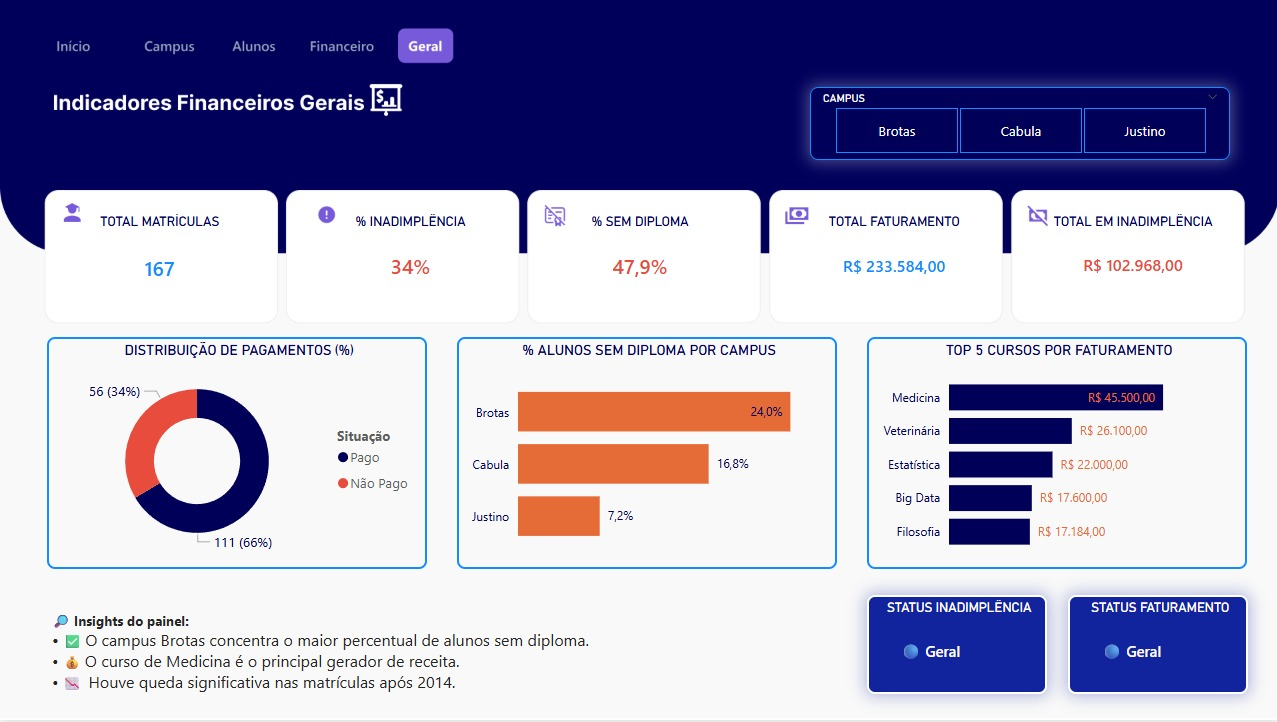

The page's visual inventory and layout, read from the dashboard file:
{"tool":"powerbi","page":{"name":"GERAL","canvas":[1280,720],"ordinal":4},"visuals":[{"type":"donutChart","title":"DISTRIBUIÇÃO DE PAGAMENTOS (%)","fields":{"Category":["Dim_Situacao.Situação"],"Y":["Medidas.TT MATRÍCULAS"]},"box":[47,336.9,380.4,232.3],"z":0},{"type":"cardVisual","title":"TOTAL FATURAMENTO","fields":{"Data":["Medidas.FAT REAL"]},"box":[810.4,213.7,167.6,88],"z":1000},{"type":"cardVisual","title":"% INADIMPLÊNCIA","fields":{"Data":["Medidas.% NÃO PAGO 2"]},"box":[340.5,213.7,140.1,88.7],"z":2000},{"type":"cardVisual","title":"%  SEM DIPLOMA","fields":{"Data":["Medidas.PCT NÃO PEGARAM DIPLOMA"]},"box":[570.1,213.7,140.1,88],"z":3000},{"type":"cardVisual","title":"TOTAL MATRÍCULAS","fields":{"Data":["Medidas.TT MATRÍCULAS"]},"box":[91.3,213.7,136.6,92.2],"z":4000},{"type":"barChart","title":"% ALUNOS SEM DIPLOMA POR CAMPUS","fields":{"Y":["Medidas.PCT NÃO PEGARAM DIPLOMA"],"Category":["Dim_Campus.Campus"]},"box":[457,337,380,232],"z":5000},{"type":"barChart","title":"TOP 5 CURSOS POR FATURAMENTO","fields":{"Category":["Dim_Cursos.Curso"],"Y":["Medidas.FATURAMENTO TOTAL"]},"box":[867,337,380,232],"z":6000},{"type":"cardVisual","title":"TOTAL EM INADIMPLÊNCIA","fields":{"Data":["Medidas.FAT REAL INADIMPLENCIA"]},"box":[1042.8,213.7,180,87.8],"z":7000},{"type":"textbox","box":[47,607,564,97],"z":8000},{"type":"cardVisual","title":"STATUS FATURAMENTO","fields":{"Data":["Medidas com emoji.Status Faturamento Final"]},"box":[1067.6,595,180,99.3],"z":9000},{"type":"slicer","fields":{"Values":["Dim_Campus.Campus"]},"box":[810.4,86.9,419.4,72.7],"z":10000},{"type":"cardVisual","title":"STATUS INADIMPLÊNCIA","fields":{"Data":["Medidas com emoji.Status Inadimplencia via Situacao"]},"box":[867.2,595,180,99.3],"z":11000},{"type":"actionButton","box":[297,22,93,40],"z":12000},{"type":"actionButton","box":[136,22,83,40],"z":13000},{"type":"actionButton","box":[219,22,71,40],"z":14000},{"type":"actionButton","box":[30,22,91,40],"z":15000}]}

Visuals, with their boxes on the page's 1280x720 design canvas (x1, y1, x2, y2). These are canvas units, not pixel positions in the 1277x722 screenshot, which may show the page scaled, cropped or inside an application window:
"DISTRIBUIÇÃO DE PAGAMENTOS (%)" donutChart: bbox(47, 337, 427, 569)
"TOTAL FATURAMENTO" cardVisual: bbox(810, 214, 978, 302)
"% INADIMPLÊNCIA" cardVisual: bbox(340, 214, 481, 302)
"%  SEM DIPLOMA" cardVisual: bbox(570, 214, 710, 302)
"TOTAL MATRÍCULAS" cardVisual: bbox(91, 214, 228, 306)
"% ALUNOS SEM DIPLOMA POR CAMPUS" barChart: bbox(457, 337, 837, 569)
"TOP 5 CURSOS POR FATURAMENTO" barChart: bbox(867, 337, 1247, 569)
"TOTAL EM INADIMPLÊNCIA" cardVisual: bbox(1043, 214, 1223, 302)
textbox: bbox(47, 607, 611, 704)
"STATUS FATURAMENTO" cardVisual: bbox(1068, 595, 1248, 694)
slicer - Dim_Campus.Campus: bbox(810, 87, 1230, 160)
"STATUS INADIMPLÊNCIA" cardVisual: bbox(867, 595, 1047, 694)
actionButton: bbox(297, 22, 390, 62)
actionButton: bbox(136, 22, 219, 62)
actionButton: bbox(219, 22, 290, 62)
actionButton: bbox(30, 22, 121, 62)
